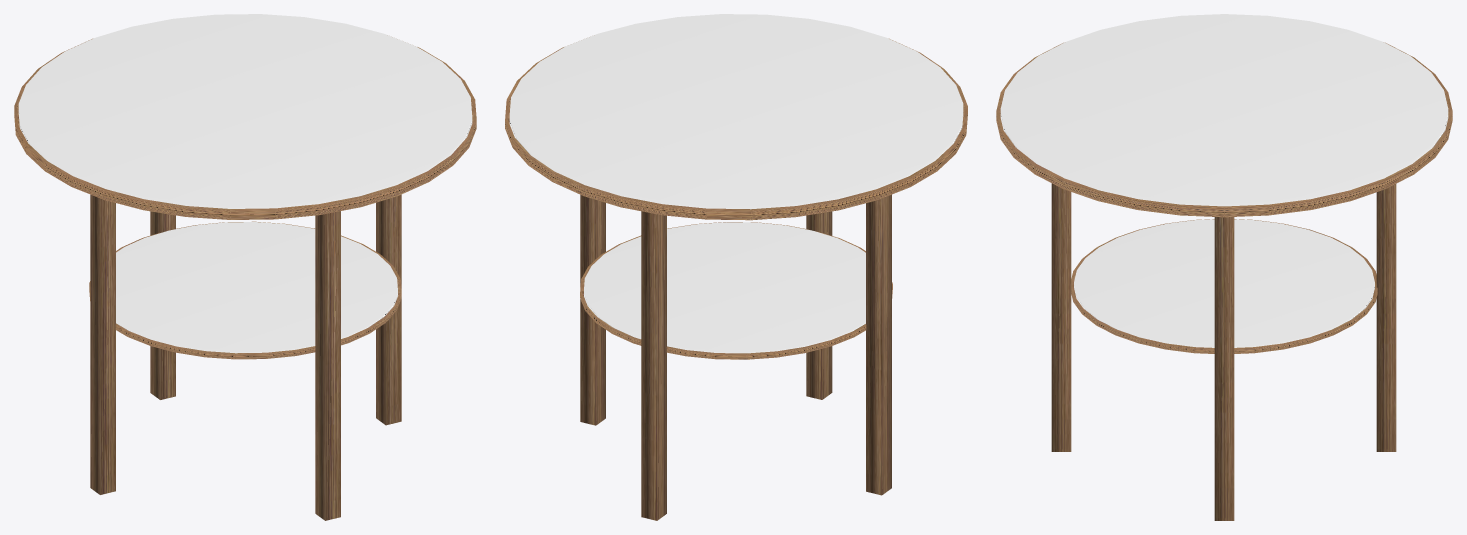
The model's file is CoffeTable.glb.
The picture shows the model from 3 angles, left to right: view 1: azimuth 30°, elevation 25°; view 2: azimuth 150°, elevation 25°; view 3: azimuth 270°, elevation 25°; orthographic projection.
Parts seen in each view (by area): view 1: Cylinder.001, Cylinder.003, Cube.001, Cube.003, Cylinder, Cube.002, Cylinder.002, Cube; view 2: Cylinder.001, Cylinder.003, Cube, Cube.003, Cylinder, Cube.002, Cylinder.002, Cube.001; view 3: Cylinder.001, Cylinder.003, Cube.002, Cylinder, Cube.001, Cube, Cylinder.002.
Boxes of the visible parts, x1,y1,x2,y2 form: Cylinder.001: (18,14,472,208); Cylinder.003: (116,222,397,353); Cube.001: (315,211,340,520); Cube.003: (90,194,115,494); Cylinder: (14,38,476,219); Cube.002: (376,194,401,425); Cylinder.002: (89,221,401,359); Cube: (150,211,175,399); Cylinder.001: (509,14,963,209); Cylinder.003: (584,222,865,353); Cube: (641,211,666,520); Cube.003: (866,194,891,495); Cylinder: (505,38,967,220); Cube.002: (580,195,605,425); Cylinder.002: (580,222,892,359); Cube.001: (806,211,832,399); Cylinder.001: (1000,14,1448,206); Cylinder.003: (1074,219,1374,347); Cube.002: (1214,217,1234,520); Cylinder: (996,42,1452,217); Cube.001: (1051,183,1071,451); Cube: (1376,184,1396,451); Cylinder.002: (1071,219,1377,353).
Size of the model in its own units: 0.8 by 0.6573 by 0.8.
2 materials, 1 textured.
